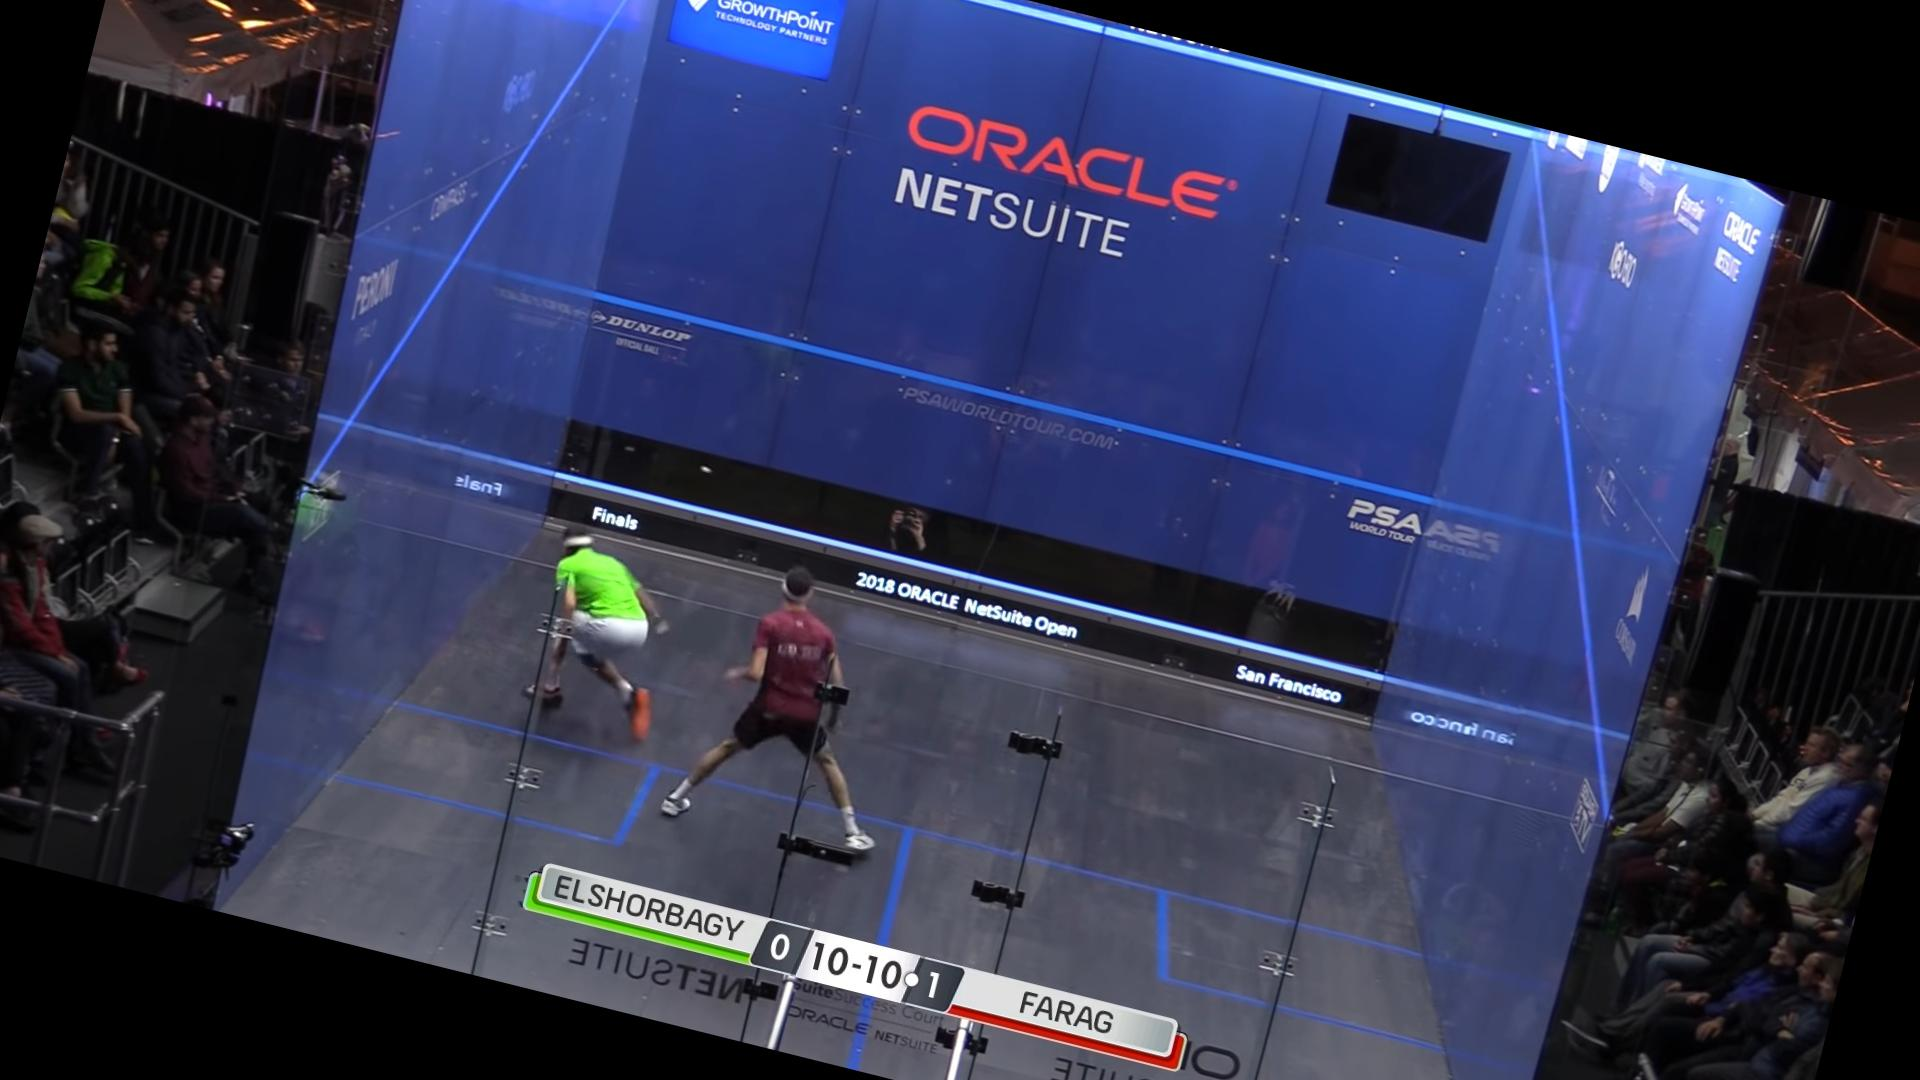Squash-Ball: (691, 455, 716, 484)
